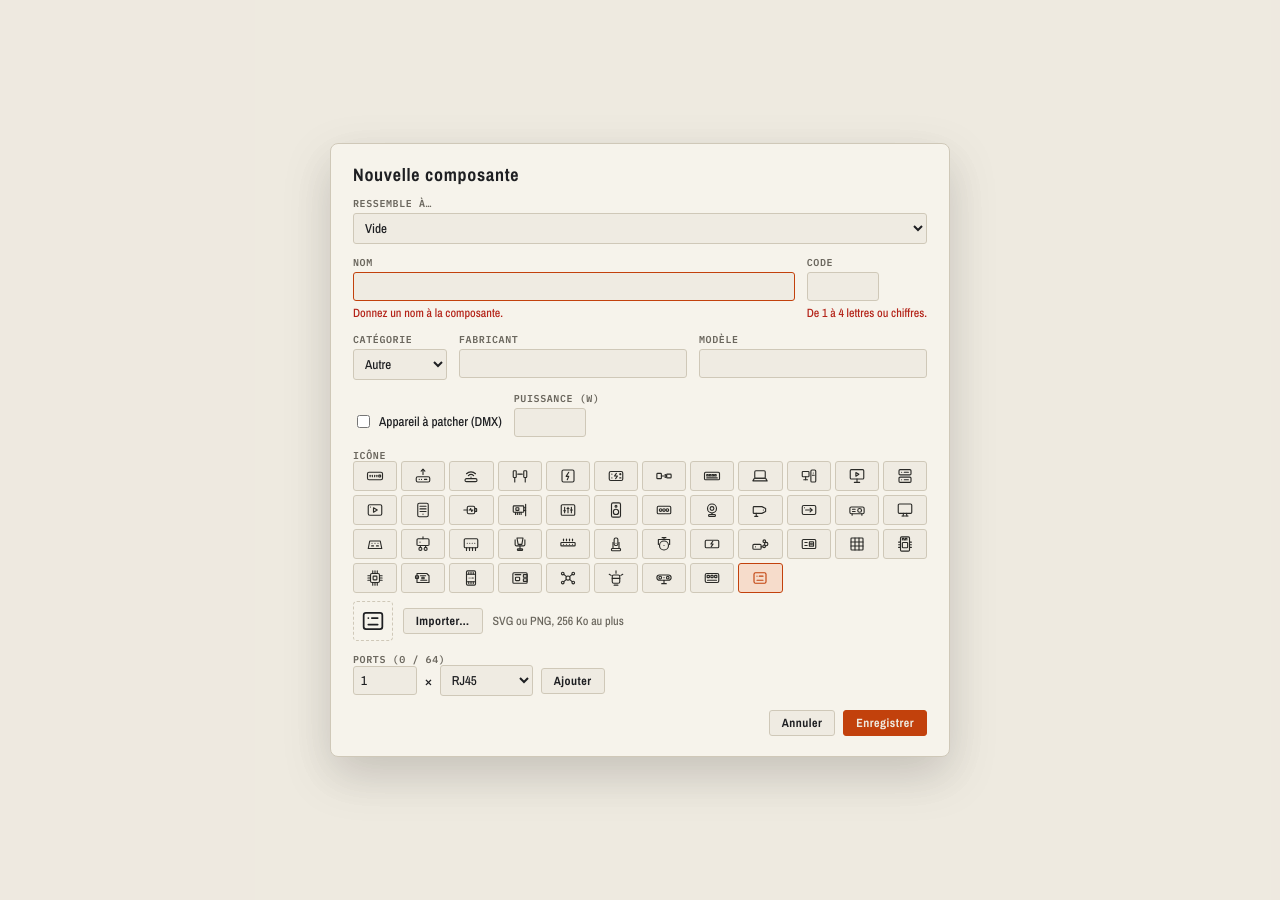
Test case: ComponentEditor › « Ressemble à… » pré-remplit la catégorie et les ports
Select "Adaptateur Dante AVIO" in the dropdown labelled "Ressemble à…": (640, 229) [353, 213, 927, 244]
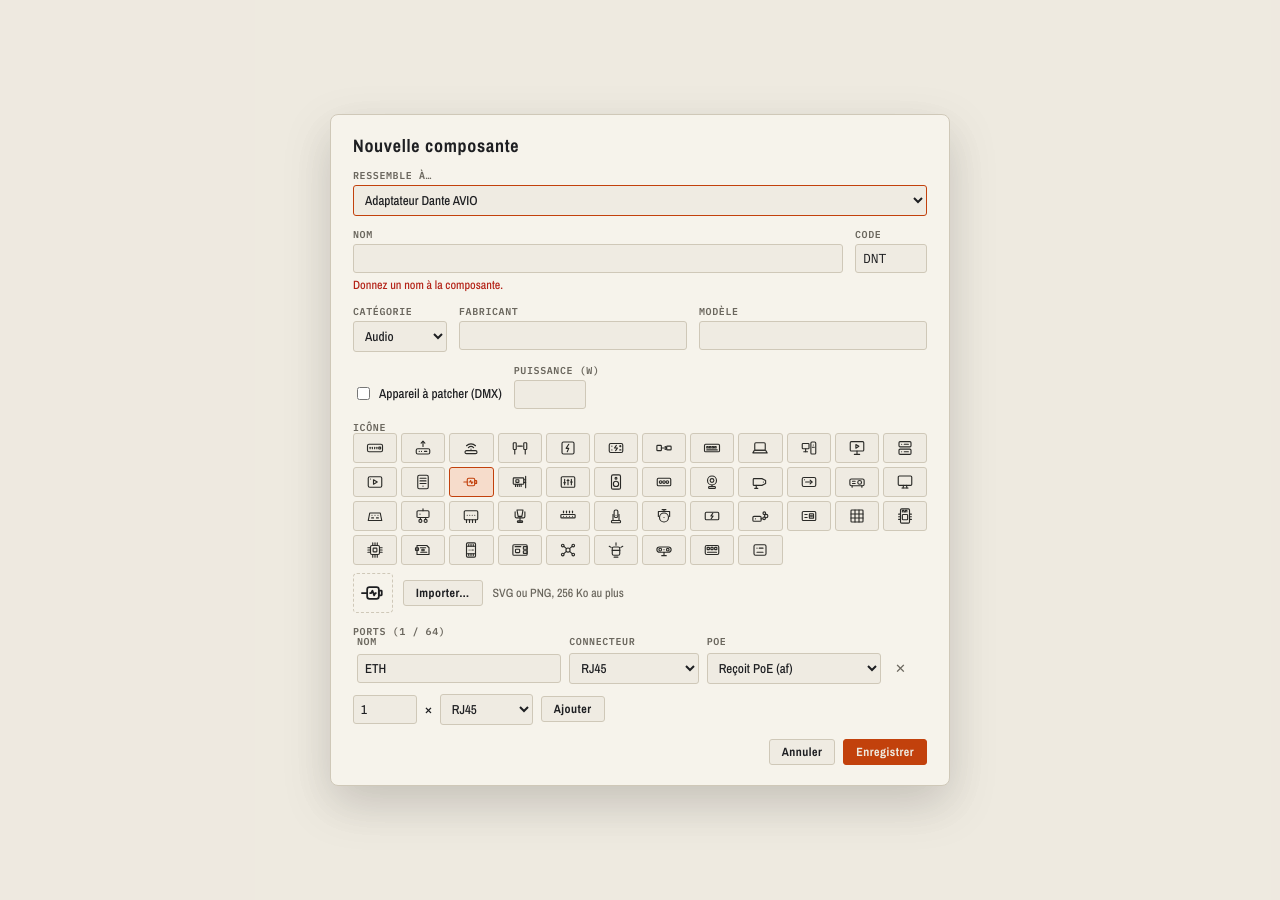
Expected: the dropdown labelled "Catégorie" shows "Audio", [353, 321, 447, 352]
Expected: the field named "Nom du port 1" holds "ETH", [357, 654, 561, 683]
Expected: the dropdown named "PoE du port 1" shows "Reçoit PoE (af)", [707, 653, 881, 684]
